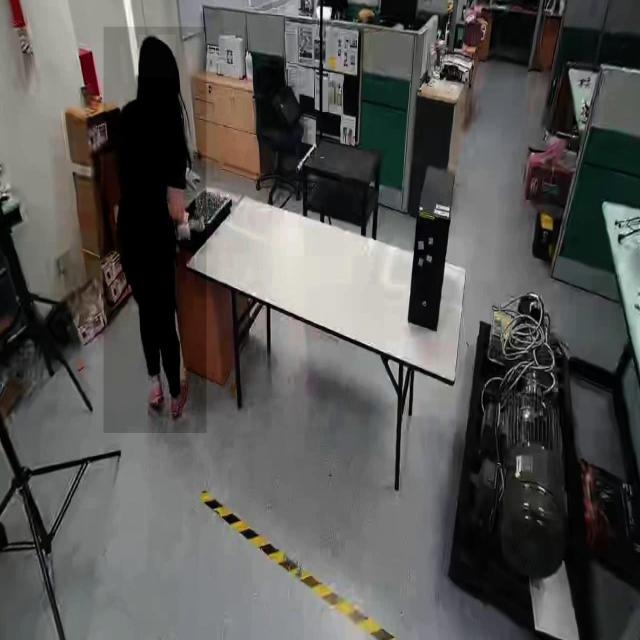hand_glove: (183, 166, 205, 200), (178, 213, 194, 247)
head_nohelmet: (139, 35, 176, 78)
person: (103, 26, 207, 434)
shoes: (170, 368, 190, 422), (144, 375, 166, 413)
